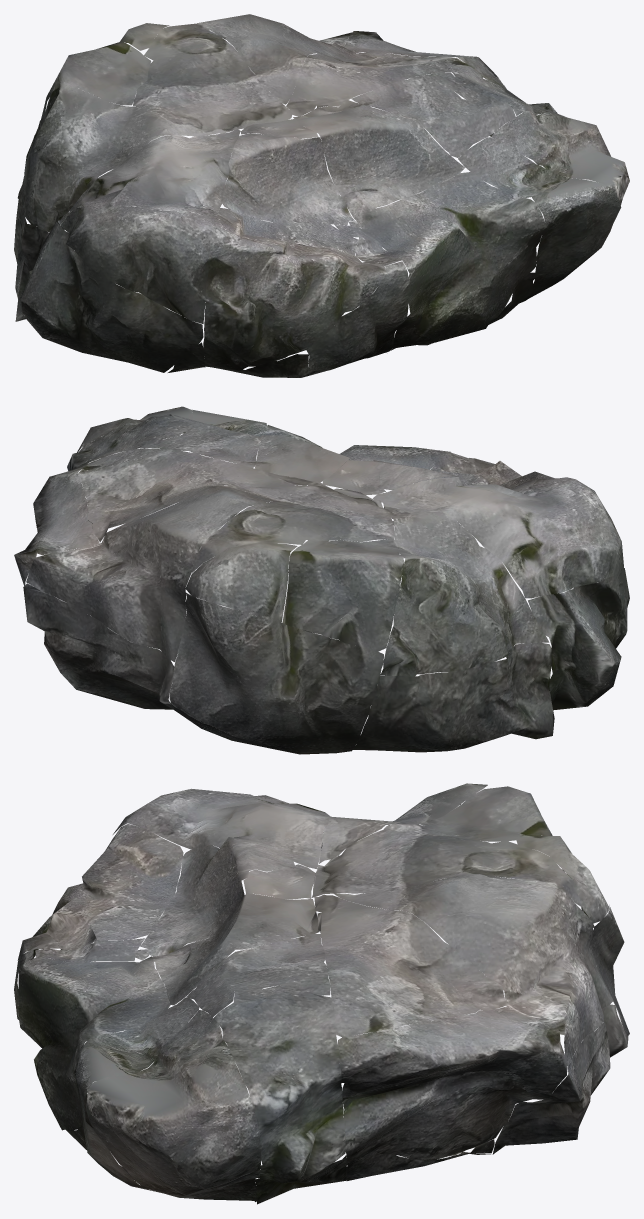
Rendered from rock-d.glb.
The picture shows the model from 3 angles, top to bottom: view 1: azimuth 30°, elevation 25°; view 2: azimuth 150°, elevation 25°; view 3: azimuth 270°, elevation 25°; orthographic projection. The views are drawn at different scales.
Parts seen in each view (by area): view 1: Supplied rock-d; view 2: Supplied rock-d; view 3: Supplied rock-d.
Part boxes in pixels (bbox=[...]): Supplied rock-d: bbox=[14, 14, 629, 377]; Supplied rock-d: bbox=[14, 406, 629, 754]; Supplied rock-d: bbox=[14, 783, 629, 1204].
Bounding box in the file's own units: 1 × 0.3369 × 0.8247.
1 material, 1 textured.
